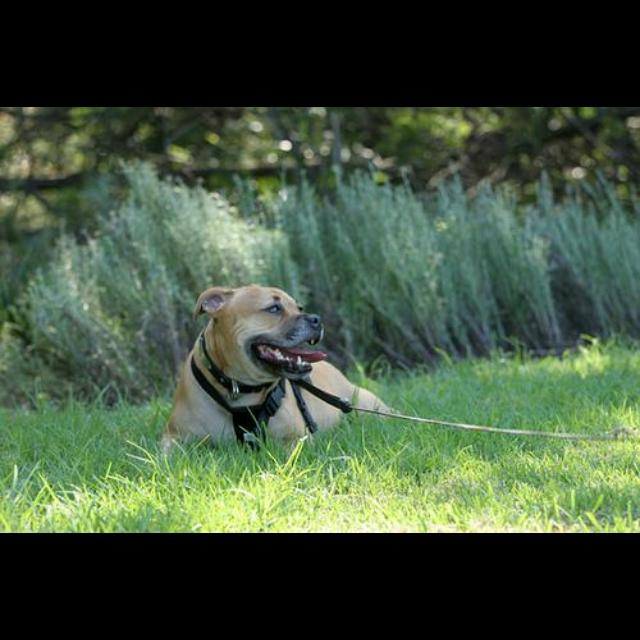staffford: (160, 283, 395, 457)
